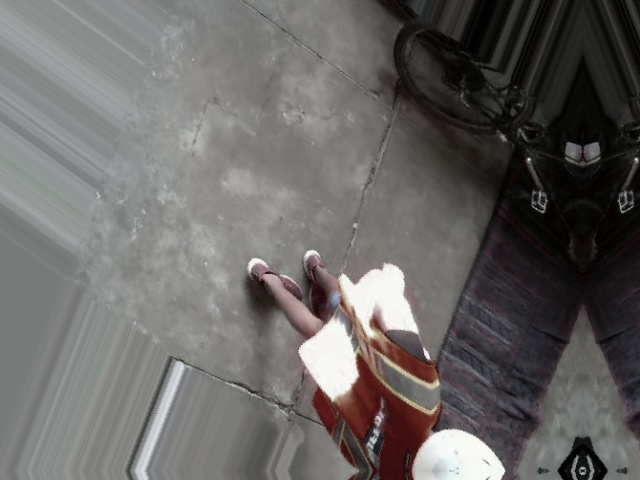two: (431, 462, 478, 479)
